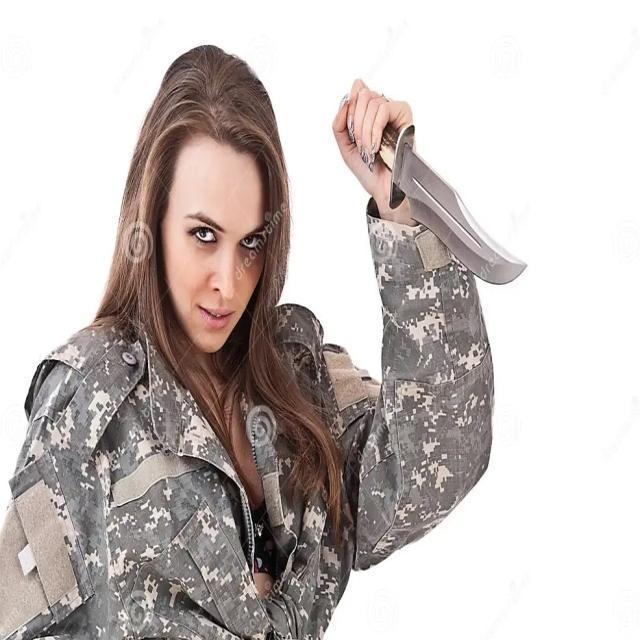Knife: (342, 81, 536, 302)
